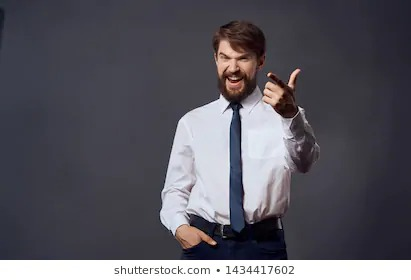F_shirt: (161, 72, 315, 260)
F_tie: (224, 95, 249, 236)
